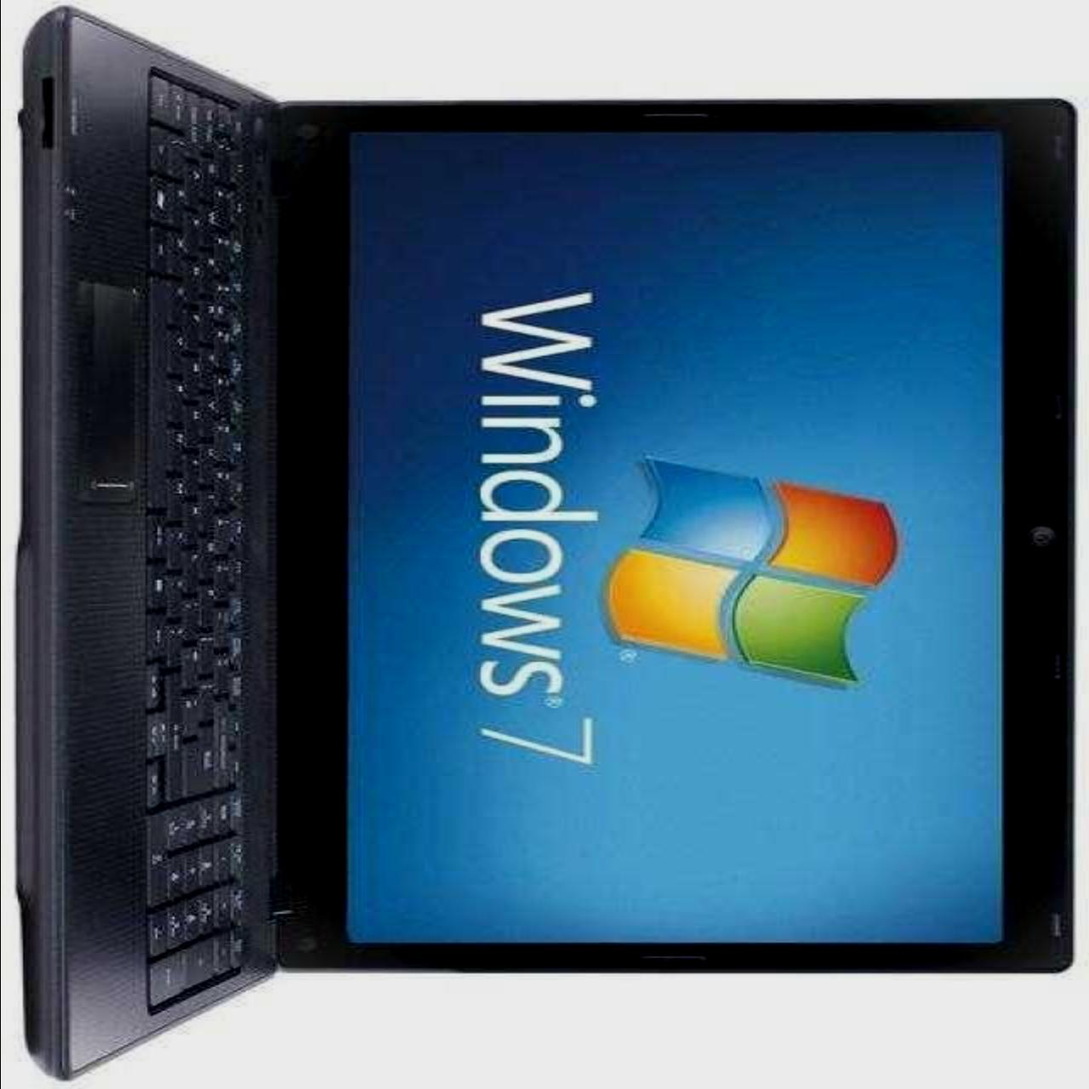laptop: (20, 65, 1073, 1058)
